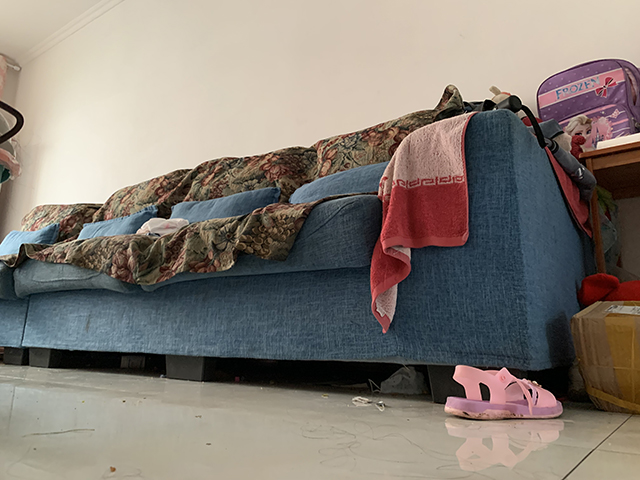sofa: (1, 83, 626, 405)
